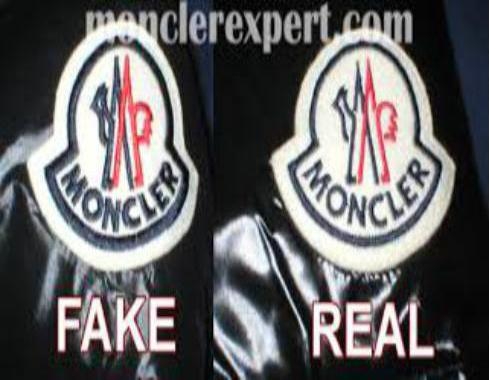MONCLER: (88, 53, 153, 189), (332, 59, 395, 186)
